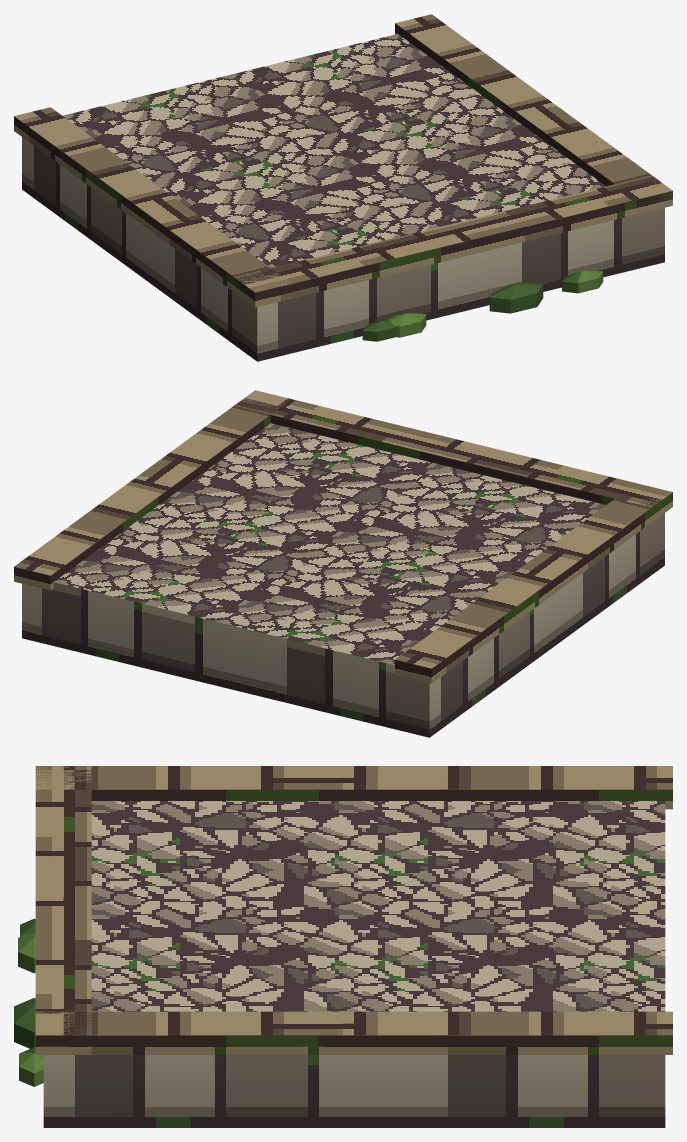
Rendered from terrace_4x4_low.glb.
3 renders of one model, top to bottom at view 1: azimuth 30°, elevation 25°; view 2: azimuth 150°, elevation 25°; view 3: azimuth 270°, elevation 25°, orthographic. The views are drawn at different scales.
Parts seen in each view (by area): view 1: terrace_4x4_low; view 2: terrace_4x4_low; view 3: terrace_4x4_low.
Part boxes in pixels (x1=…): terrace_4x4_low: x1=14, y1=14, x2=672, y2=361; terrace_4x4_low: x1=14, y1=390, x2=672, y2=737; terrace_4x4_low: x1=14, y1=766, x2=672, y2=1127.
Size of the model in its own units: 4.1 by 0.7703 by 4.24.
Materials: 3 (2 with a texture image).
